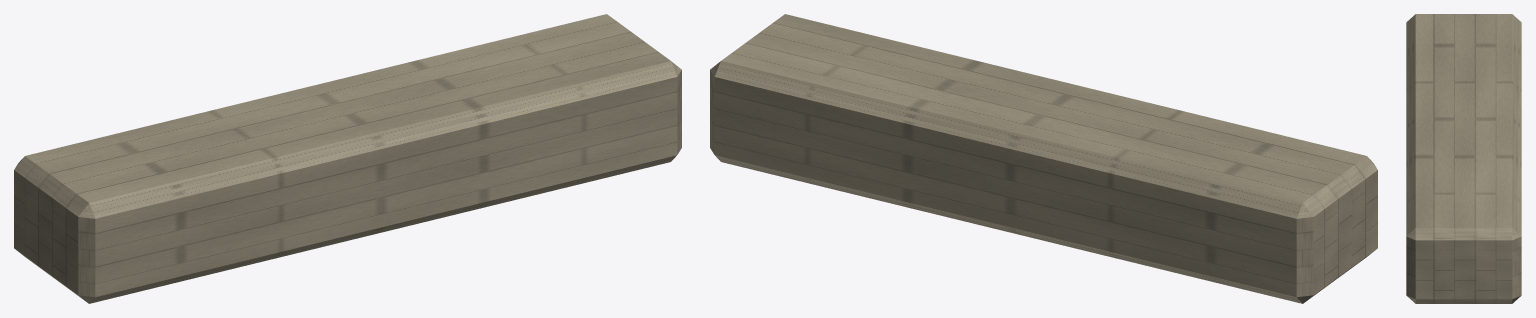
Rendered from module-stone-trim.glb.
3 renders of one model, left to right at view 1: azimuth 30°, elevation 25°; view 2: azimuth 150°, elevation 25°; view 3: azimuth 270°, elevation 25°, orthographic. The views are drawn at different scales.
Visible parts, largest first — view 1: module-stone-trim; view 2: module-stone-trim; view 3: module-stone-trim.
Part boxes in pixels (x1,y1,x2,y2): module-stone-trim: [14, 14, 681, 303]; module-stone-trim: [710, 14, 1377, 303]; module-stone-trim: [1406, 14, 1521, 303].
Bounding box in the file's own units: 1 × 0.16 × 0.22.
1 material, 1 textured.
